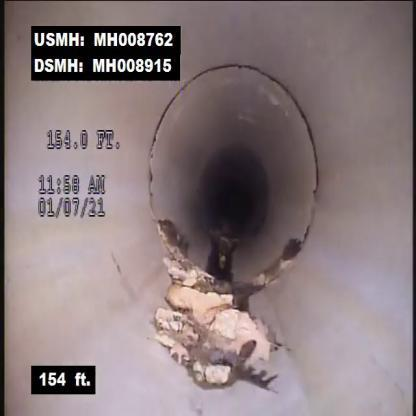Debris: (145, 265, 297, 389)
